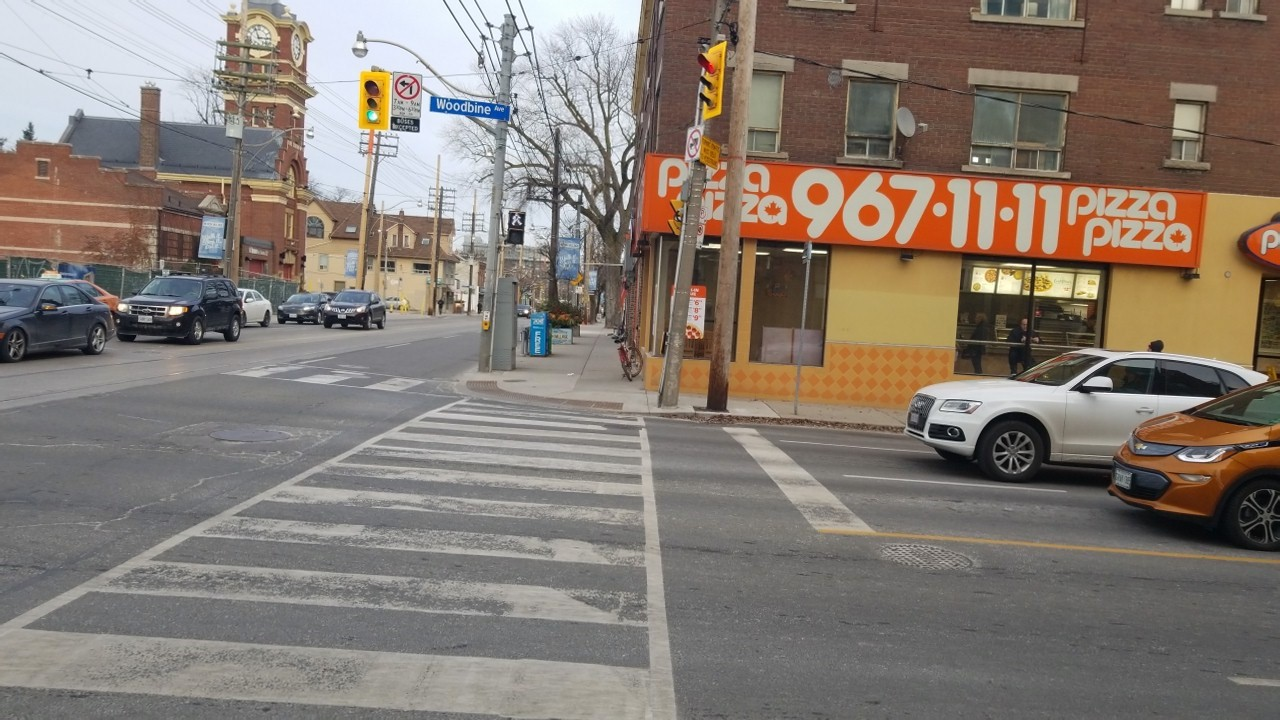light: (503, 207, 529, 252)
